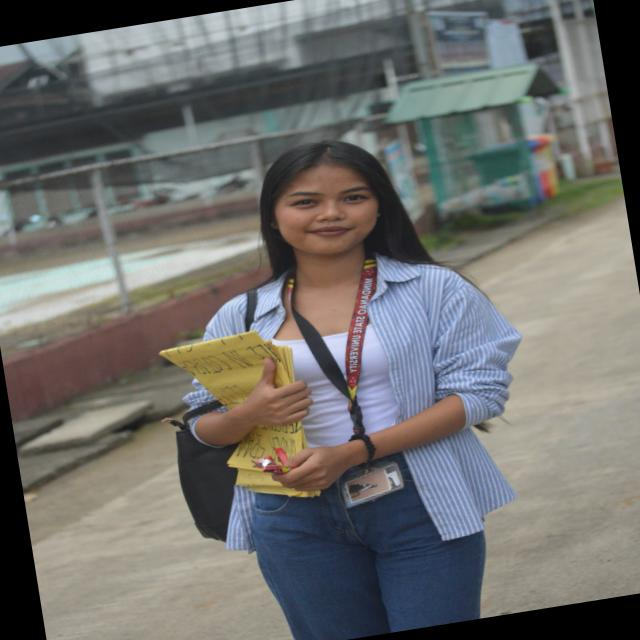person: (191, 141, 519, 639)
